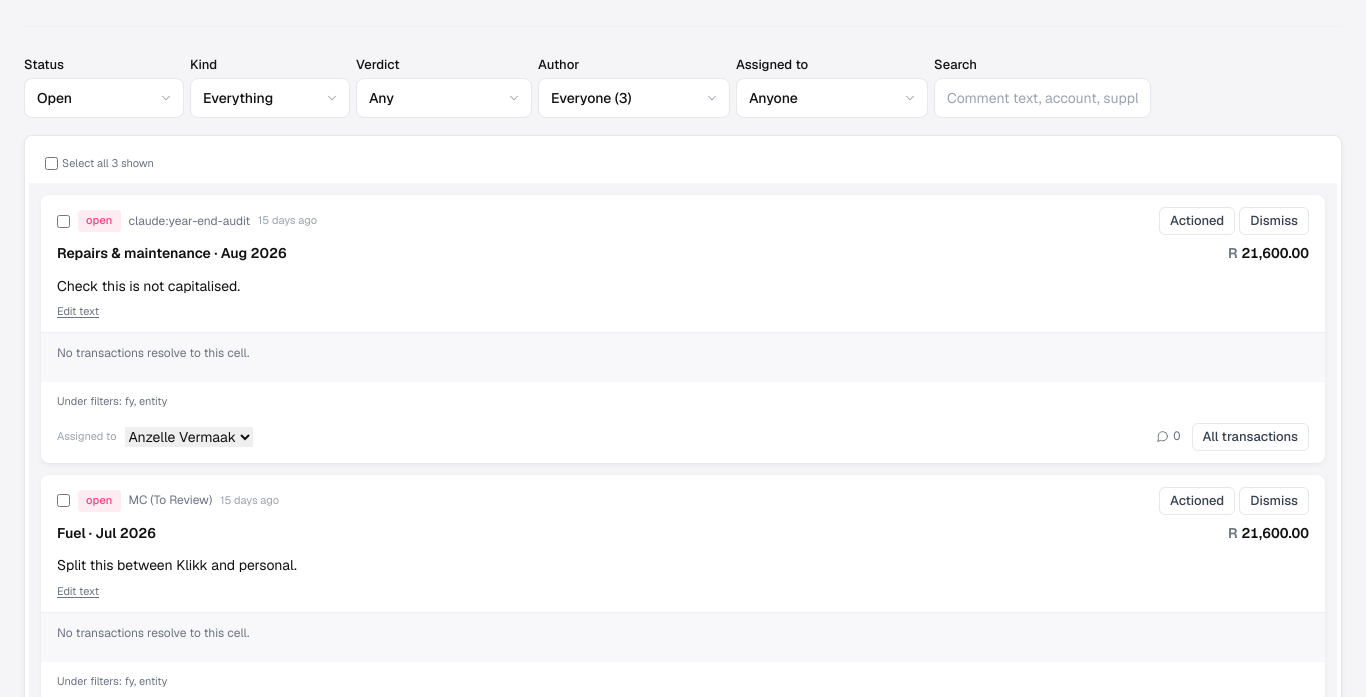
Test: AuditComments — opening the inline editor › opens ONE editor at a time — a second Edit click MOVES it
Click the button "Edit text" below "Check this is not capitalised.".
click(78, 312)  # box [57,304,99,320]
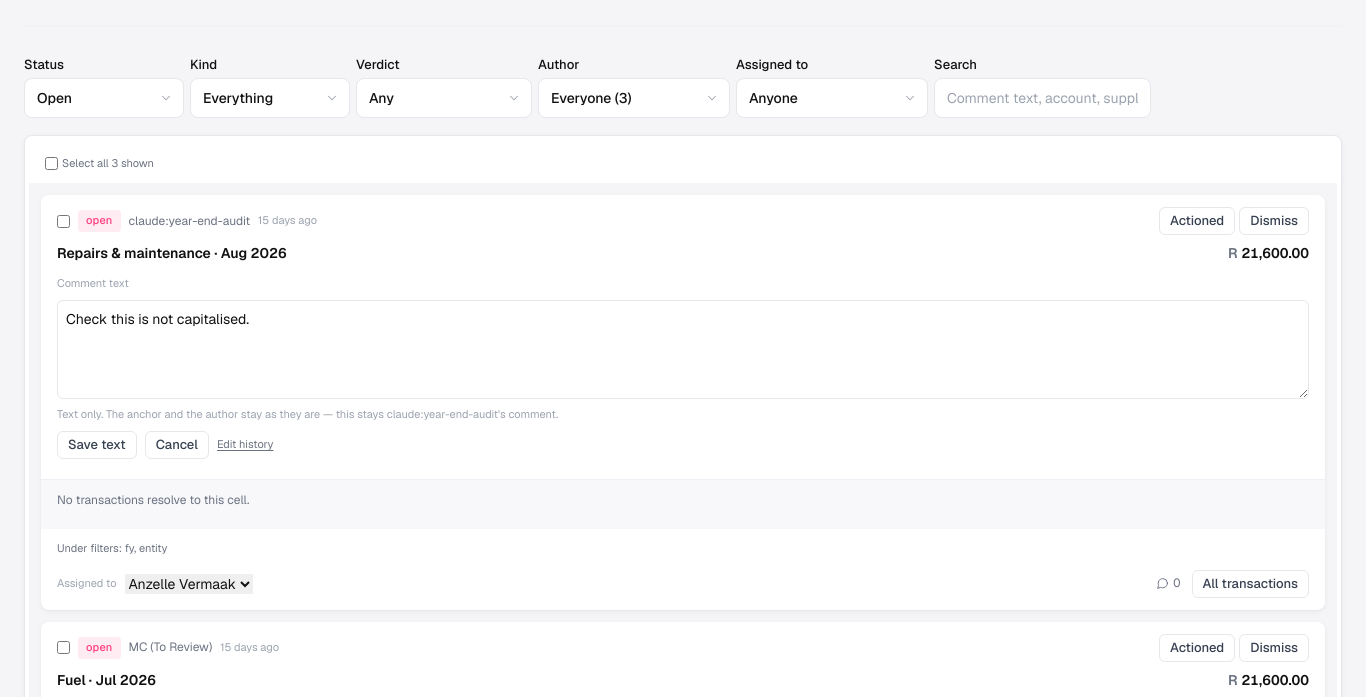
Replace the text in the text box labelled "Comment text" with "a draft nobody asked to keep" at (683, 349), box [57,300,1309,399]
(page scrolled)
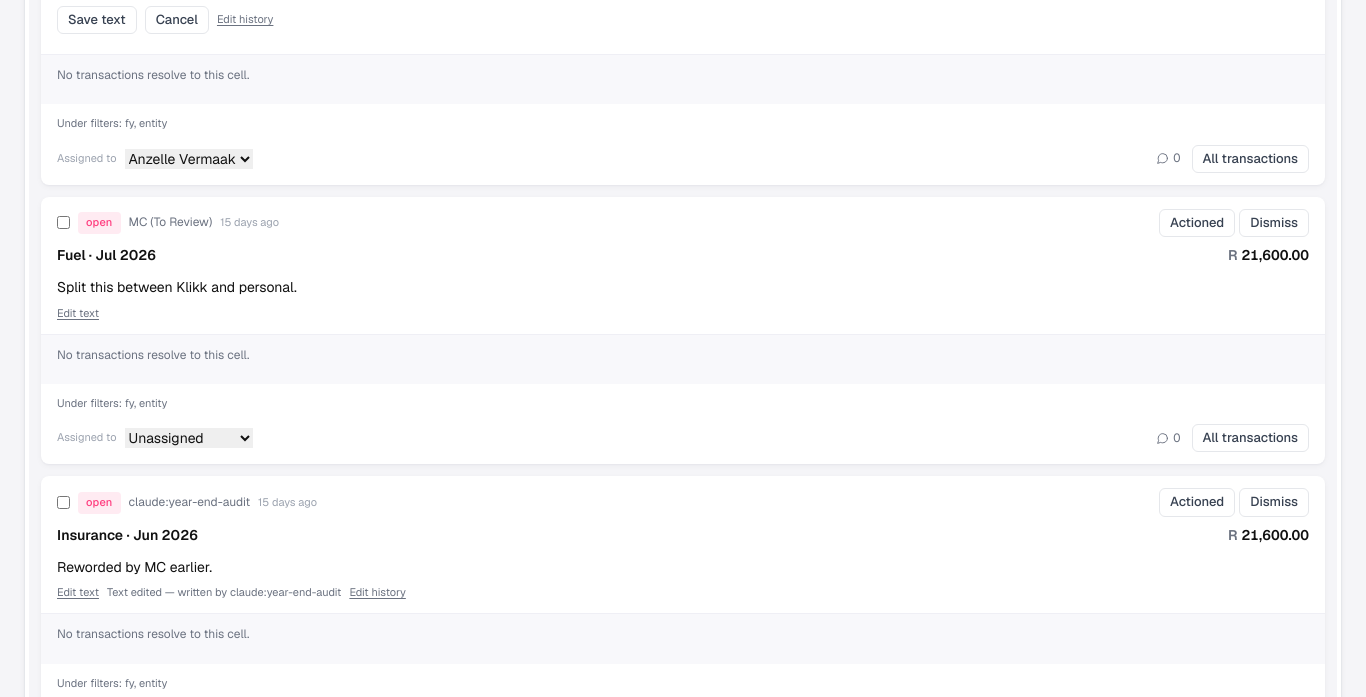
Click the button "Edit text" below "Split this between Klikk and personal.".
click(78, 314)  # box [57,306,99,322]
(page scrolled)
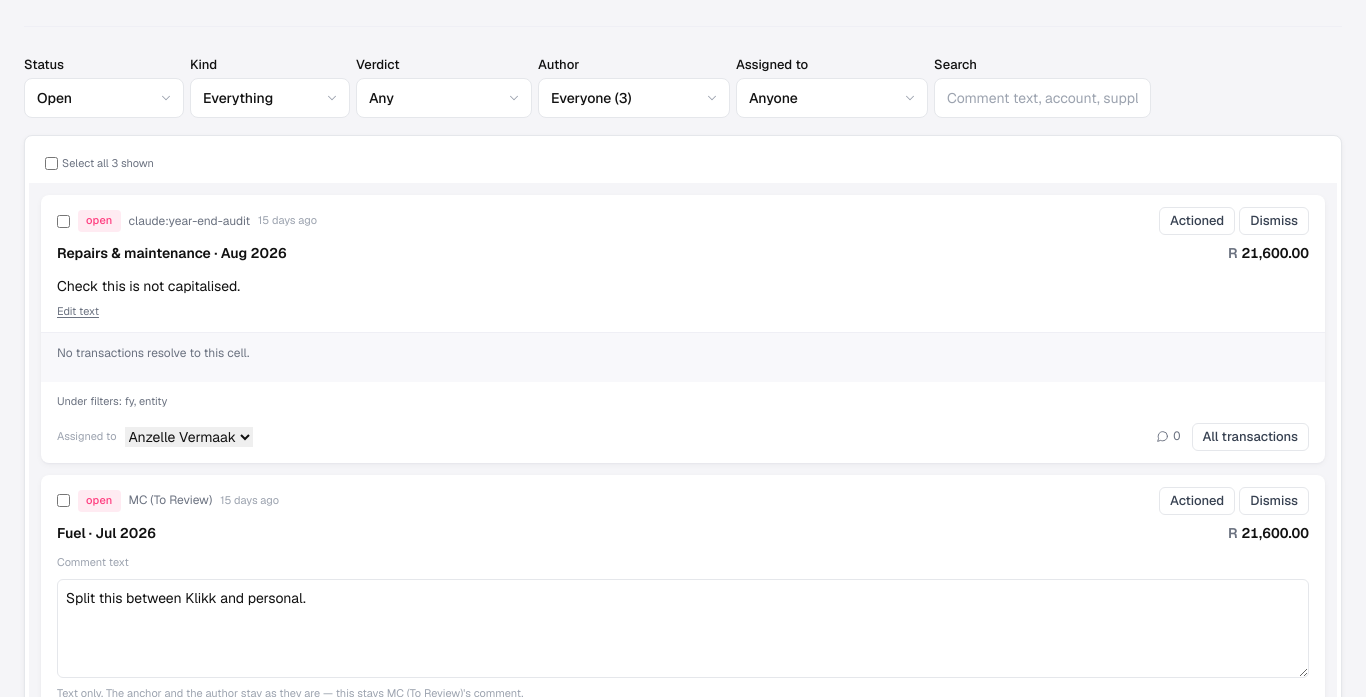
Expected: the text "a draft nobody asked to keep" is not shown
Expected: the number of text boxes is 1, [57,579,1309,678]
Expected: the text with test id "cc-text-41" reads "Check this is not capitalised.", [57,277,240,295]
